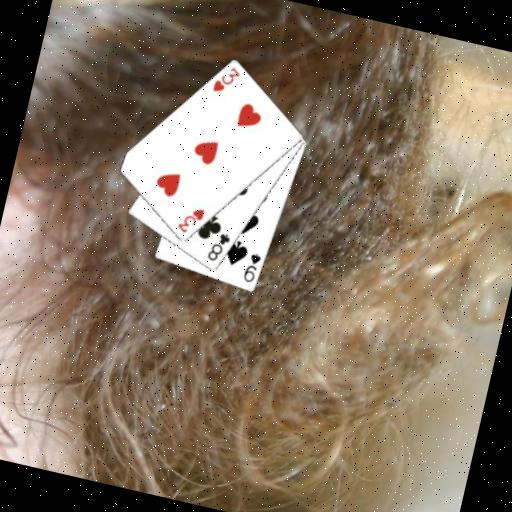3H: (173, 201, 208, 238), (209, 61, 243, 98)
8C: (203, 228, 233, 266)
9S: (240, 249, 264, 286)
